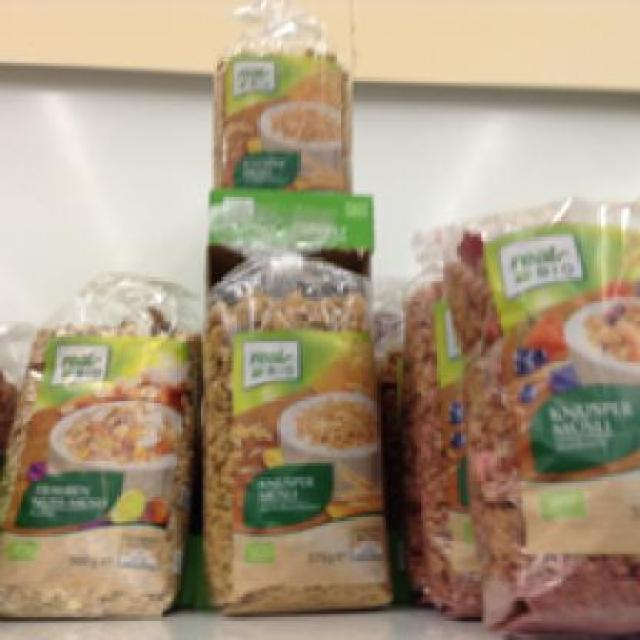Cereal: (434, 200, 637, 626), (0, 270, 195, 615), (200, 254, 386, 603), (209, 32, 354, 192)
